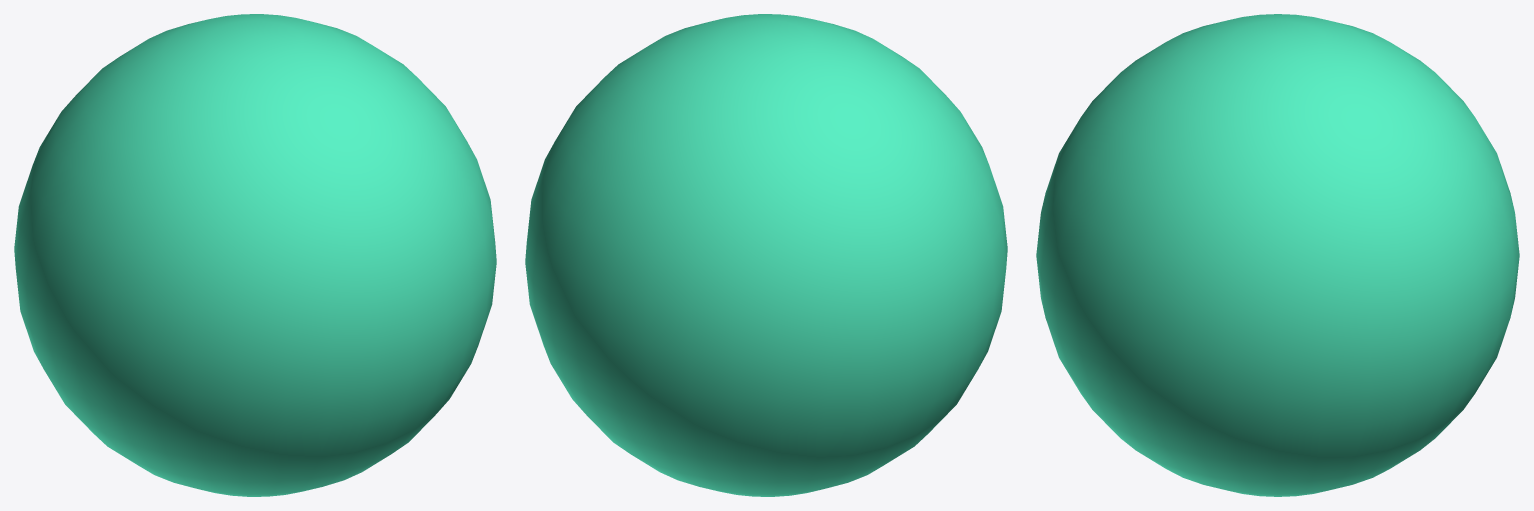
The model's file is speed.fbx.
3 renders of one model, left to right at view 1: azimuth 30°, elevation 25°; view 2: azimuth 150°, elevation 25°; view 3: azimuth 270°, elevation 25°, orthographic.
Parts seen in each view (by area): view 1: Box004; view 2: Box004; view 3: Box004.
Part boxes in pixels (<box>): Box004: <box>14,14,496,496</box>; Box004: <box>525,14,1007,496</box>; Box004: <box>1036,14,1519,496</box>.
Size of the model in its own units: 51.53 by 51.54 by 51.54.
